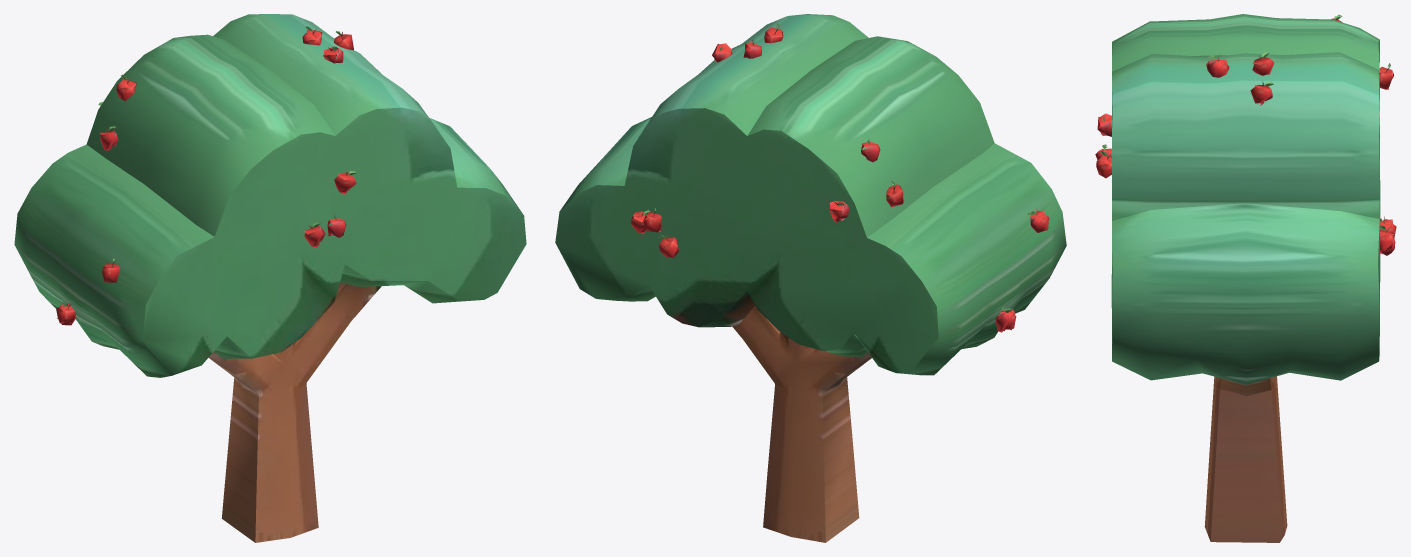
The picture shows the model from 3 angles, left to right: view 1: azimuth 30°, elevation 25°; view 2: azimuth 150°, elevation 25°; view 3: azimuth 270°, elevation 25°; orthographic projection. The views are drawn at different scales.
Visible parts, largest first — view 1: Decor_apple_tree_3; view 2: Decor_apple_tree_3; view 3: Decor_apple_tree_3.
Part boxes in pixels (x1,y1,x2,y2): Decor_apple_tree_3: (14,14,526,542); Decor_apple_tree_3: (555,14,1066,542); Decor_apple_tree_3: (1095,14,1396,542).
Size of the model in its own units: 4.21 by 4.72 by 2.58.
Materials: 2 (2 with a texture image).
